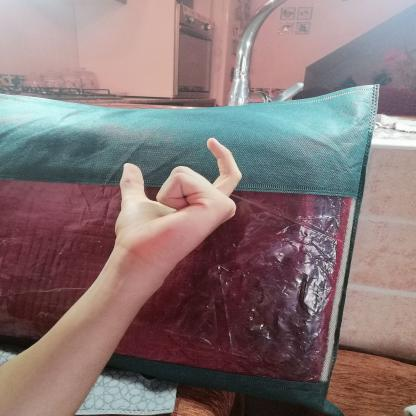NOON: (94, 132, 261, 280)
